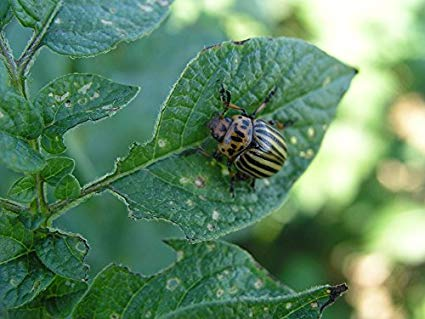hrosc: (198, 92, 290, 193)
